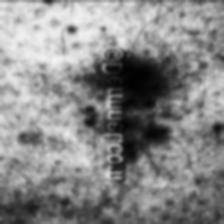Toxin: (73, 54, 104, 130), (126, 55, 158, 113), (124, 122, 166, 158)
